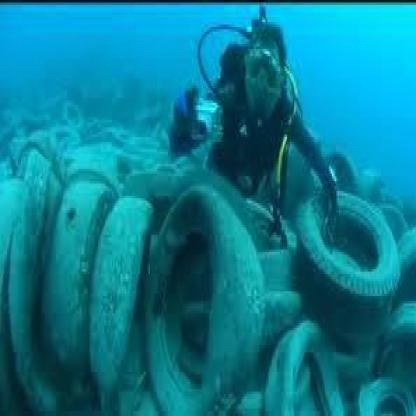tire: (147, 169, 244, 384), (48, 174, 146, 382), (296, 176, 410, 328)
